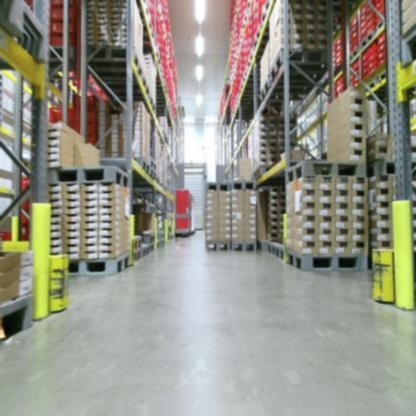pallets: (204, 237, 368, 275), (84, 42, 159, 109), (258, 48, 325, 107), (45, 161, 131, 198), (0, 286, 45, 348), (283, 159, 371, 189), (65, 251, 133, 280), (346, 24, 386, 66), (126, 231, 169, 267), (135, 154, 169, 188), (371, 161, 413, 177), (205, 181, 256, 193), (252, 163, 278, 180)
